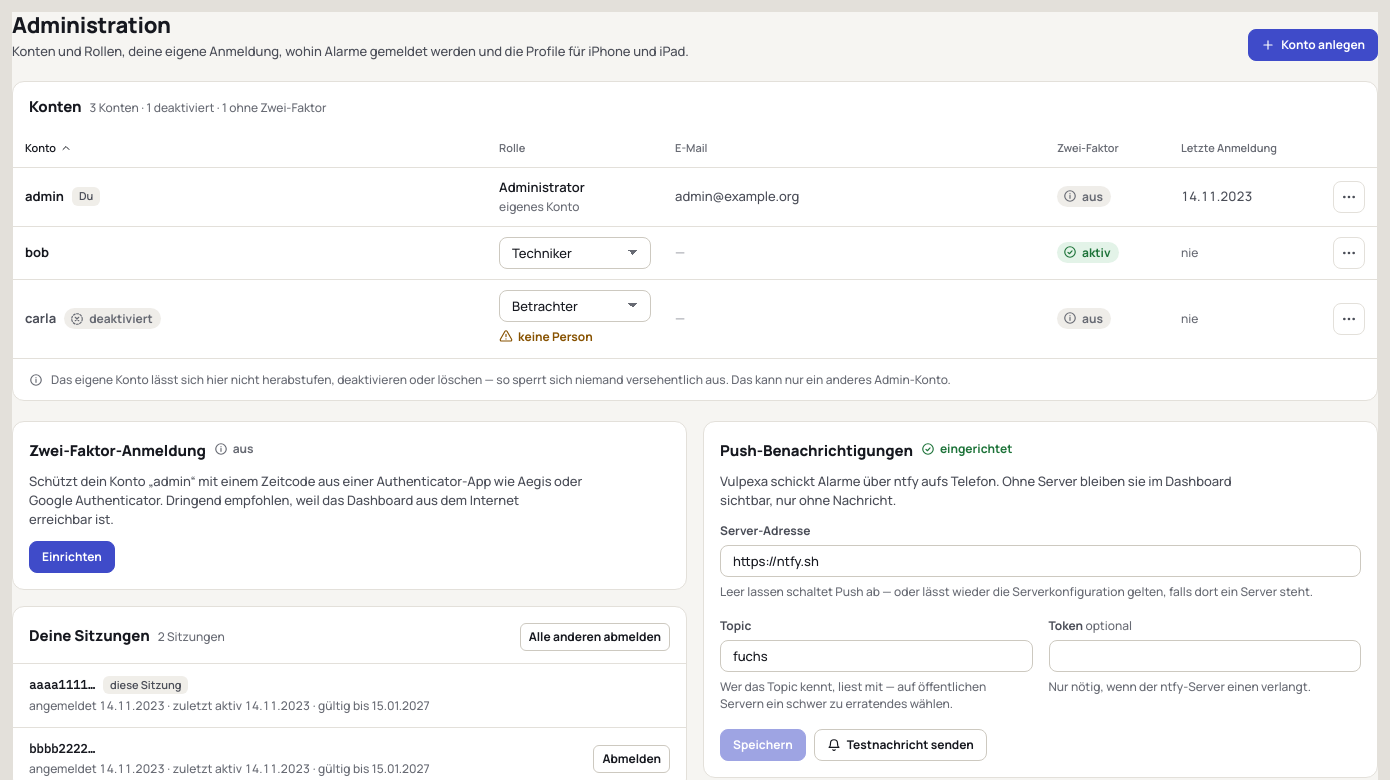
AdminPage › keeps the signed-in admin from demoting, disabling or deleting themself, and says why
Expected: the table is shown, [13, 129, 1377, 358]
Expected: the text "Das eigene Konto lässt sich hier nicht herabstufen, deaktivieren oder löschen — so sperrt sich niemand versehentlich aus" is shown, [51, 371, 951, 388]
Click the button named "Aktionen für admin".
click(1349, 197)  # box [1333, 181, 1365, 213]
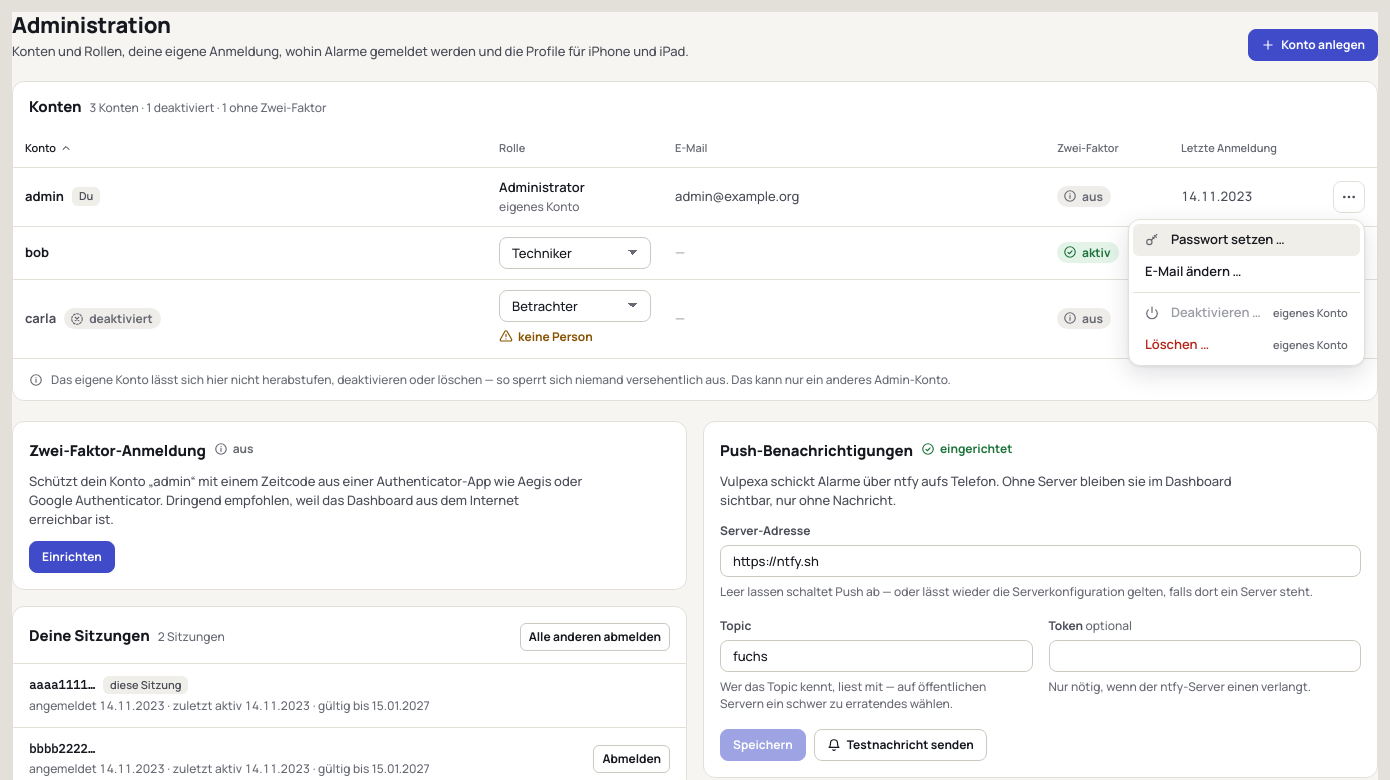
Result: the menu item "Deaktivieren … eigenes Konto" is disabled at [1133, 297, 1360, 329]
Result: the menu item "Löschen … eigenes Konto" is disabled at [1133, 329, 1360, 361]
Result: the menu item "Passwort setzen …" is enabled at [1133, 224, 1360, 256]
